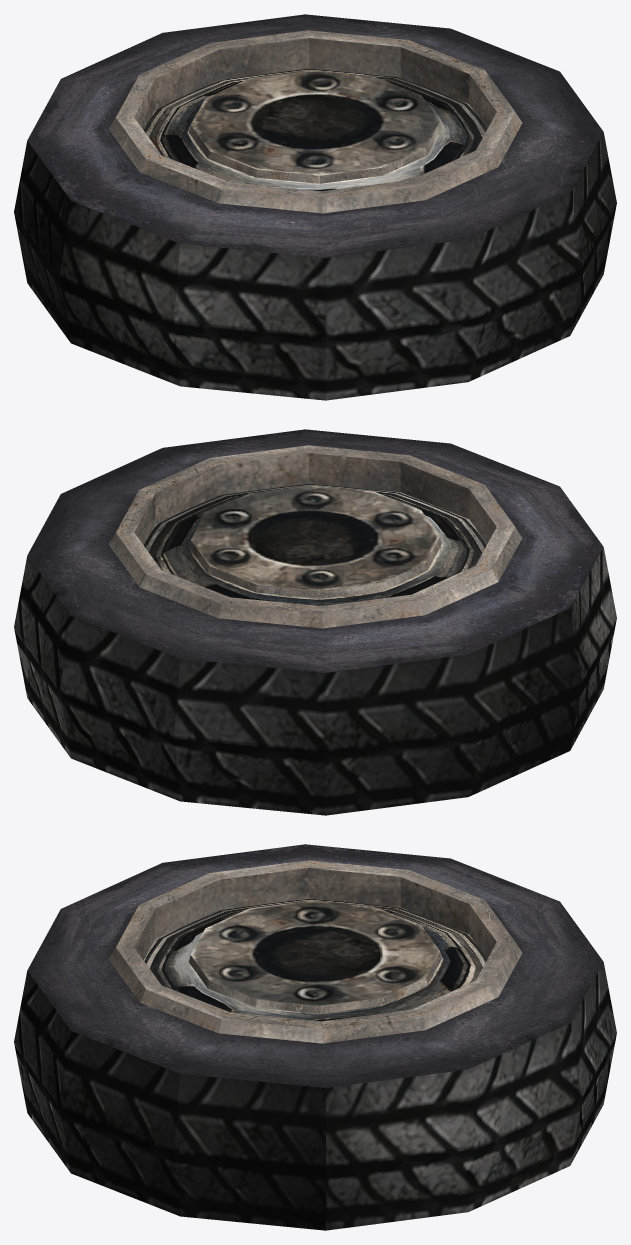
Rendered from wheel.fbx.
The picture shows the model from 3 angles, top to bottom: view 1: azimuth 30°, elevation 25°; view 2: azimuth 150°, elevation 25°; view 3: azimuth 270°, elevation 25°; orthographic projection.
Visible parts, largest first — view 1: wheel; view 2: wheel; view 3: wheel.
Boxes of the visible parts, x1,y1,x2,y2 form: wheel: [14, 14, 616, 400]; wheel: [14, 429, 616, 815]; wheel: [14, 844, 616, 1230].
Bounding box in the file's own units: 1.91 × 0.6493 × 1.91.
